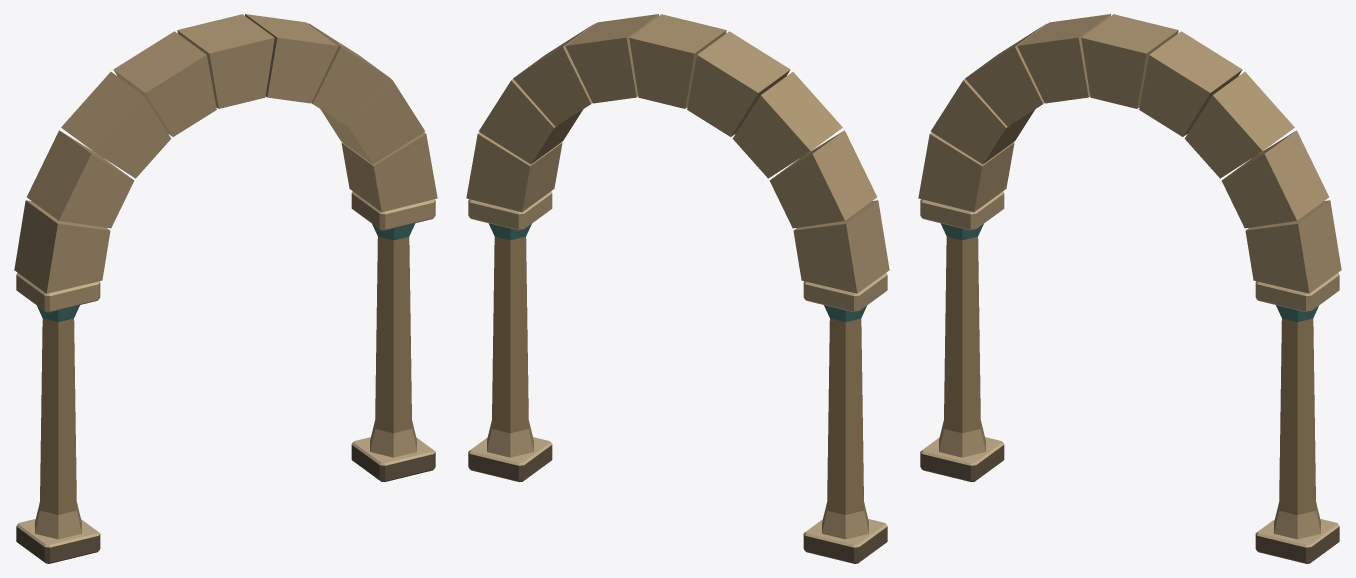
Rendered from arch-free.glb.
3 views of the same model, side by side, from view 1: azimuth 30°, elevation 25°; view 2: azimuth 150°, elevation 25°; view 3: azimuth 330°, elevation 25° (orthographic).
Visible parts, largest first — view 1: arch-free__body; view 2: arch-free__body; view 3: arch-free__body.
Part boxes in pixels (x1,y1,x2,y2): arch-free__body: (14, 14, 437, 563); arch-free__body: (466, 14, 889, 563); arch-free__body: (918, 14, 1341, 563).
Size of the model in its own units: 2.8 by 3.23 by 0.4.
